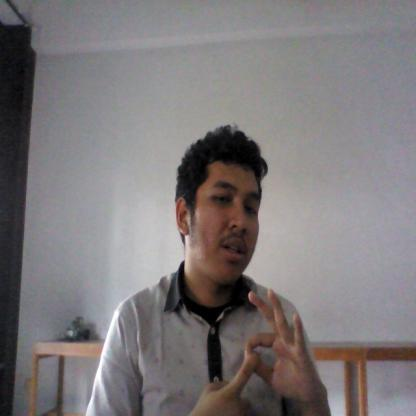Q: (195, 287, 320, 416)
